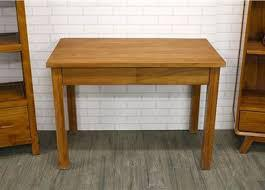desk: (45, 21, 221, 172)
